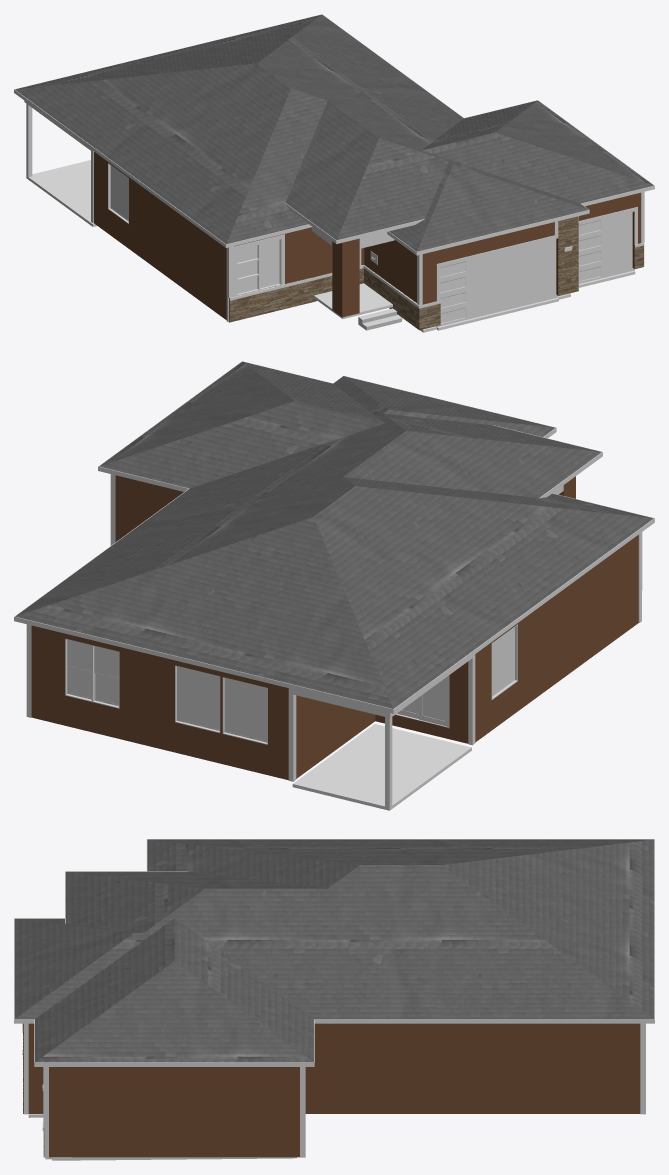
Rendered from 140-1526-dm-modern-prairie.glb.
3 views of the same model, one above another, from view 1: azimuth 30°, elevation 25°; view 2: azimuth 150°, elevation 25°; view 3: azimuth 270°, elevation 25° (orthographic). The views are drawn at different scales.
Parts seen in each view (by area): view 1: Basic Roof Wood Rafter 4" - Asphalt Shingle - Insulated_69f3, Basic Roof Wood Rafter 4" - Asphalt Shingle - Insulated_eb6b, Basic Roof Wood Rafter 4" - Asphalt Shingle - Insulated_1c94, Basic Roof Wood Rafter 4" - Asphalt Shingle - Insulated_329a, Modern - BSB Exterior - Overhead Garage Door -Clopay - _8ce1, Basic Wall BSB Exterior - Stud_5.5" - Sheathing_0.5" - _ee27, Fascia Fascia-Flat 1x6 w/12" Soffit Bd [4422312], Basic Wall BSB Exterior - Stud_5.5" - Sheathing_0.5" - _47e0, Modern - BSB Exterior - Overhead Garage Door -Clopay - _e1a3, Basic Wall BSB Exterior - Stud_3.5" - Sheathing_0.5" - _b360, Basic Wall BSB Exterior - Stone Veneer_2" [4574946], Floor BSB Concrete Slab - 4" - Slope Option [4531315] (+18 smaller); view 2: Basic Roof Wood Rafter 4" - Asphalt Shingle - Insulated_69f3, Basic Roof Wood Rafter 4" - Asphalt Shingle - Insulated_1c94, Basic Wall BSB Exterior - Stud_5.5" - Sheathing_0.5" - _ff8a, Basic Roof Wood Rafter 4" - Asphalt Shingle - Insulated_eb6b, Floor BSB Concrete Slab - 4" - Slope Option [4531315], Basic Wall BSB Exterior - Stud_5.5" - Sheathing_0.5" - _ee27, Basic Wall BSB Exterior - Stud_5.5" - Sheathing_0.5" - _47e0, Fascia Fascia-Flat 1x6 w/12" Soffit Bd [4422312], Basic Roof Wood Rafter 4" - Asphalt Shingle - Insulated_329a, Basic Wall BSB Exterior - Stud_5.5" - Sheathing_0.5" - _cf53, Trim - Corner Boards2 Trim - Corner Boards [4420256], BSB Fixed 5060 FX w/ Sill [4252614] (+10 smaller); view 3: Basic Roof Wood Rafter 4" - Asphalt Shingle - Insulated_69f3, Basic Wall BSB Exterior - Stud_5.5" - Sheathing_0.5" - _f144, Basic Roof Wood Rafter 4" - Asphalt Shingle - Insulated_1c94, Basic Roof Wood Rafter 4" - Asphalt Shingle - Insulated_eb6b, Basic Wall BSB Exterior - Stud_3.5" - Sheathing_0.5" - _c112, Basic Wall BSB Exterior - Stud_3.5" - Sheathing_0.5" - _e595, Basic Roof Wood Rafter 4" - Asphalt Shingle - Insulated_329a, Fascia Fascia-Flat 1x6 w/12" Soffit Bd [4422312], Trim - Corner Boards2 Trim - Corner Boards [4420256], Basic Wall BSB Exterior - Stud_3.5" - Sheathing_0.5" - _7eee, Floor BSB Concrete Slab - 4" - Slope Option [4259965].
Part boxes in pixels (box(x1,y1,x2,y2)): Basic Roof Wood Rafter 4" - Asphalt Shingle - Insulated_69f3: box(15, 14, 463, 244); Basic Roof Wood Rafter 4" - Asphalt Shingle - Insulated_eb6b: box(285, 100, 544, 240); Basic Roof Wood Rafter 4" - Asphalt Shingle - Insulated_1c94: box(421, 100, 653, 203); Basic Roof Wood Rafter 4" - Asphalt Shingle - Insulated_329a: box(389, 122, 588, 251); Modern - BSB Exterior - Overhead Garage Door -Clopay - _8ce1: box(436, 239, 557, 326); Basic Wall BSB Exterior - Stud_5.5" - Sheathing_0.5" - _ee27: box(94, 152, 168, 277); Fascia Fascia-Flat 1x6 w/12" Soffit Bd [4422312]: box(14, 14, 654, 255); Basic Wall BSB Exterior - Stud_5.5" - Sheathing_0.5" - _47e0: box(168, 206, 217, 313); Modern - BSB Exterior - Overhead Garage Door -Clopay - _e1a3: box(579, 212, 633, 283); Basic Wall BSB Exterior - Stud_3.5" - Sheathing_0.5" - _b360: box(422, 222, 557, 304); Basic Wall BSB Exterior - Stone Veneer_2" [4574946]: box(229, 264, 364, 322); Floor BSB Concrete Slab - 4" - Slope Option [4531315]: box(26, 160, 96, 226); Basic Roof Wood Rafter 4" - Asphalt Shingle - Insulated_69f3: box(15, 451, 653, 708); Basic Roof Wood Rafter 4" - Asphalt Shingle - Insulated_1c94: box(99, 361, 385, 488); Basic Wall BSB Exterior - Stud_5.5" - Sheathing_0.5" - _ff8a: box(31, 626, 288, 780); Basic Roof Wood Rafter 4" - Asphalt Shingle - Insulated_eb6b: box(307, 391, 601, 497); Floor BSB Concrete Slab - 4" - Slope Option [4531315]: box(292, 724, 471, 810); Basic Wall BSB Exterior - Stud_5.5" - Sheathing_0.5" - _ee27: box(467, 588, 566, 742); Basic Wall BSB Exterior - Stud_5.5" - Sheathing_0.5" - _47e0: box(566, 543, 627, 675); Fascia Fascia-Flat 1x6 w/12" Soffit Bd [4422312]: box(14, 361, 654, 713); Basic Roof Wood Rafter 4" - Asphalt Shingle - Insulated_329a: box(303, 376, 555, 461); Basic Wall BSB Exterior - Stud_5.5" - Sheathing_0.5" - _cf53: box(287, 688, 375, 778); Trim - Corner Boards2 Trim - Corner Boards [4420256]: box(26, 474, 642, 781); BSB Fixed 5060 FX w/ Sill [4252614]: box(175, 665, 220, 733); Basic Roof Wood Rafter 4" - Asphalt Shingle - Insulated_69f3: box(147, 839, 654, 1019); Basic Wall BSB Exterior - Stud_5.5" - Sheathing_0.5" - _f144: box(305, 1023, 640, 1113); Basic Roof Wood Rafter 4" - Asphalt Shingle - Insulated_1c94: box(35, 918, 313, 1062); Basic Roof Wood Rafter 4" - Asphalt Shingle - Insulated_eb6b: box(65, 871, 327, 996); Basic Wall BSB Exterior - Stud_3.5" - Sheathing_0.5" - _c112: box(152, 1067, 299, 1157); Basic Wall BSB Exterior - Stud_3.5" - Sheathing_0.5" - _e595: box(49, 1067, 152, 1157); Basic Roof Wood Rafter 4" - Asphalt Shingle - Insulated_329a: box(14, 918, 270, 1019); Fascia Fascia-Flat 1x6 w/12" Soffit Bd [4422312]: box(14, 839, 654, 1066); Trim - Corner Boards2 Trim - Corner Boards [4420256]: box(24, 1023, 645, 1157); Basic Wall BSB Exterior - Stud_3.5" - Sheathing_0.5" - _7eee: box(28, 1023, 43, 1113); Floor BSB Concrete Slab - 4" - Slope Option [4259965]: box(28, 1114, 296, 1160).
Size of the model in its own units: 15.79 by 5.6 by 19.14.
Materials: 3 (2 with a texture image).
